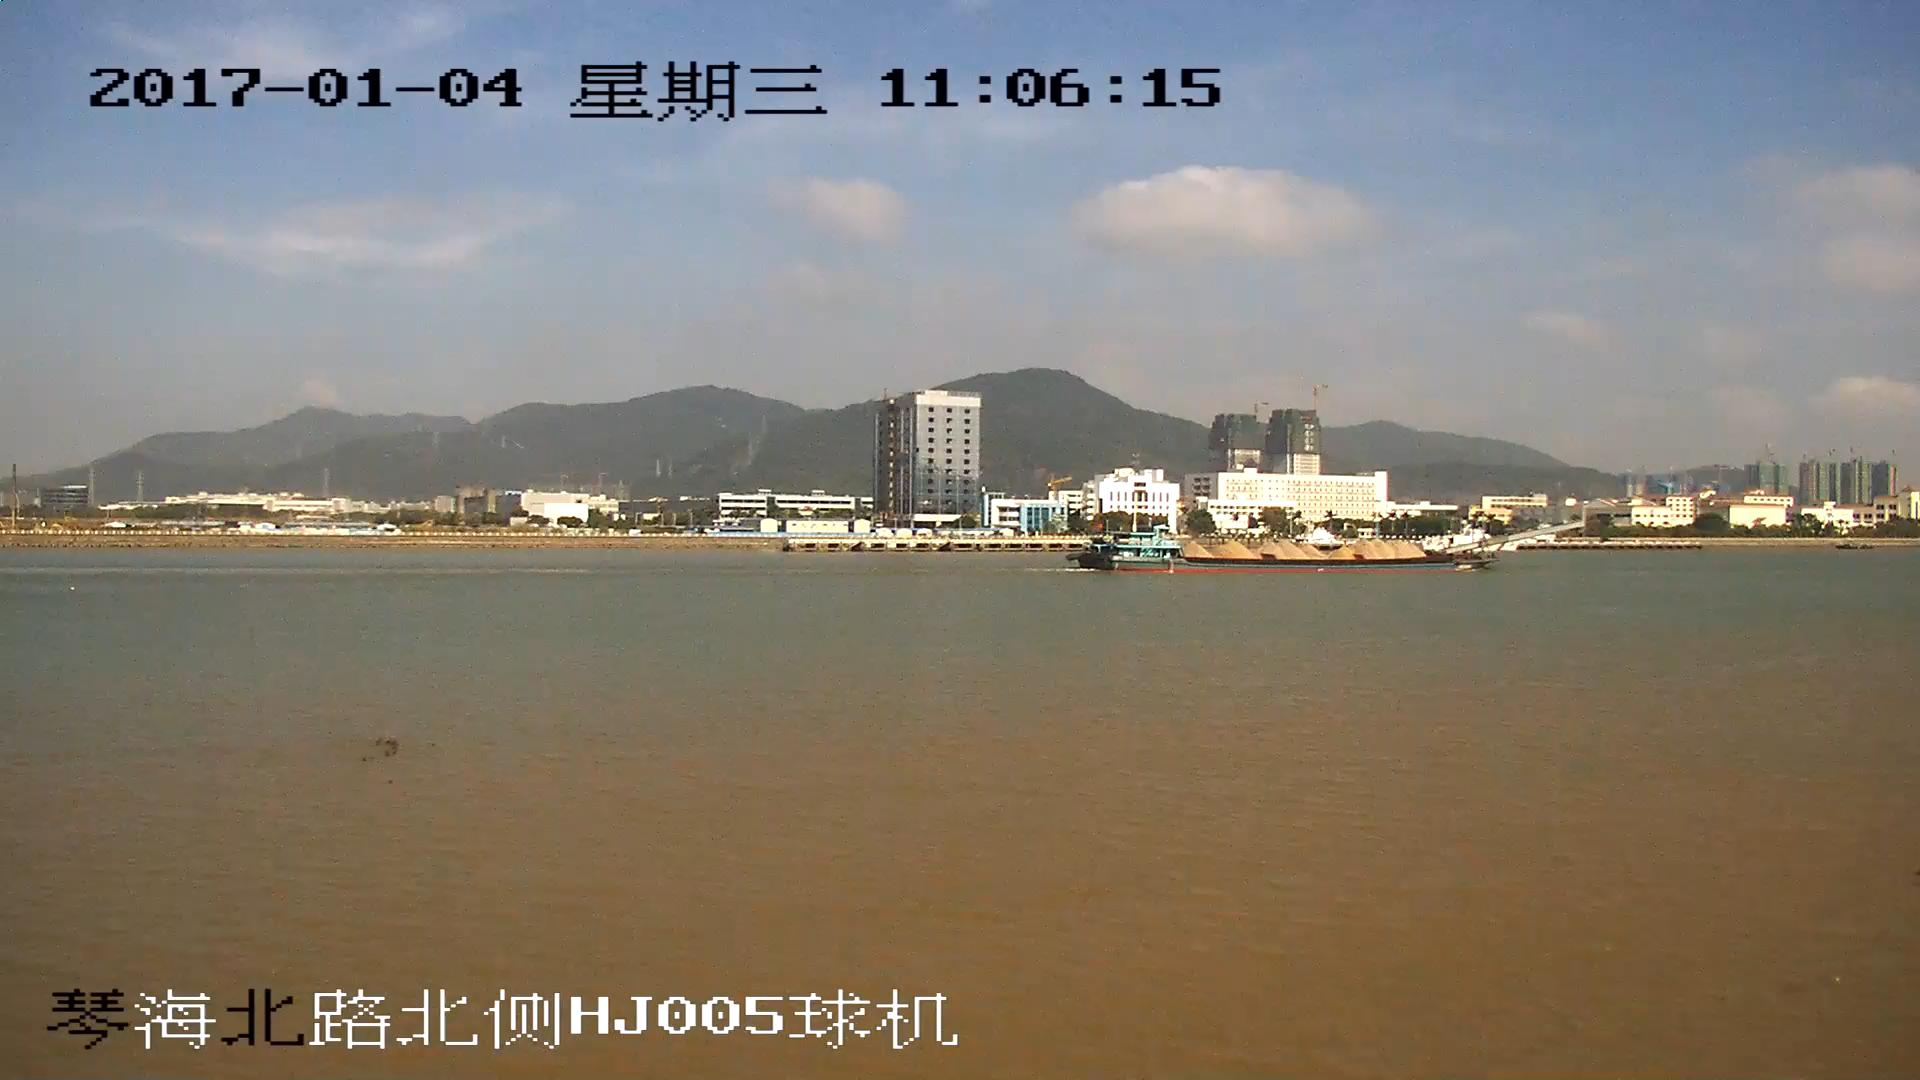ore carrier: (1077, 521, 1582, 577)
